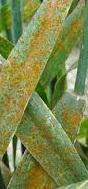Wheat: (1, 1, 72, 110)
